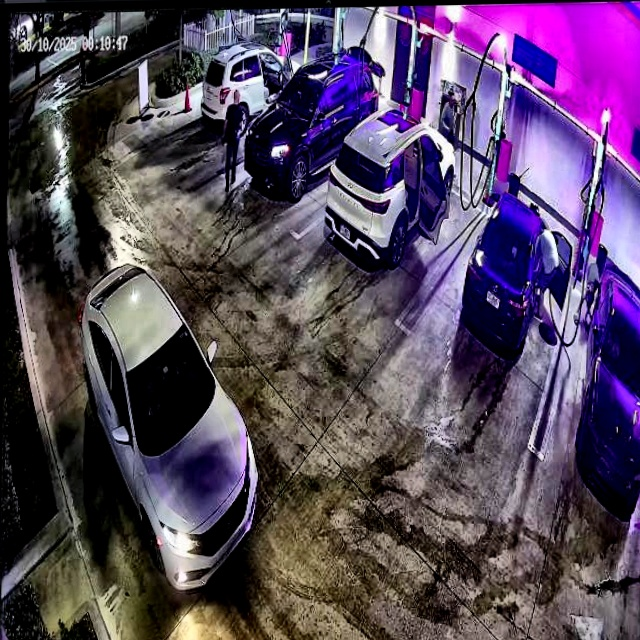Car: (76, 259, 260, 589), (322, 106, 459, 268), (244, 51, 381, 200), (461, 194, 573, 345)
